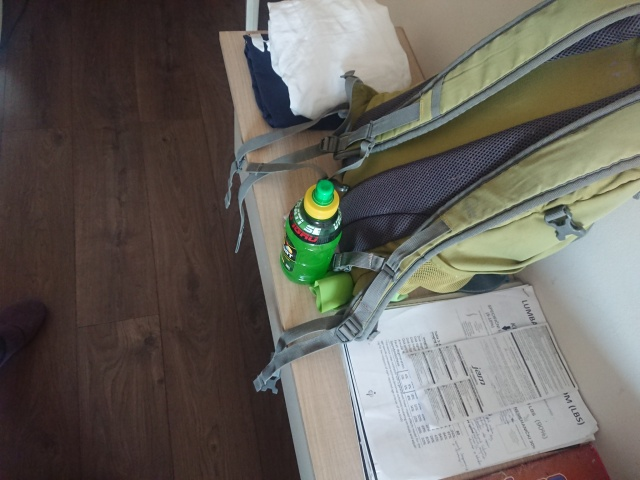Vindi Iso Sport Lemon-Grapefruit 500mL: (276, 177, 346, 288)
